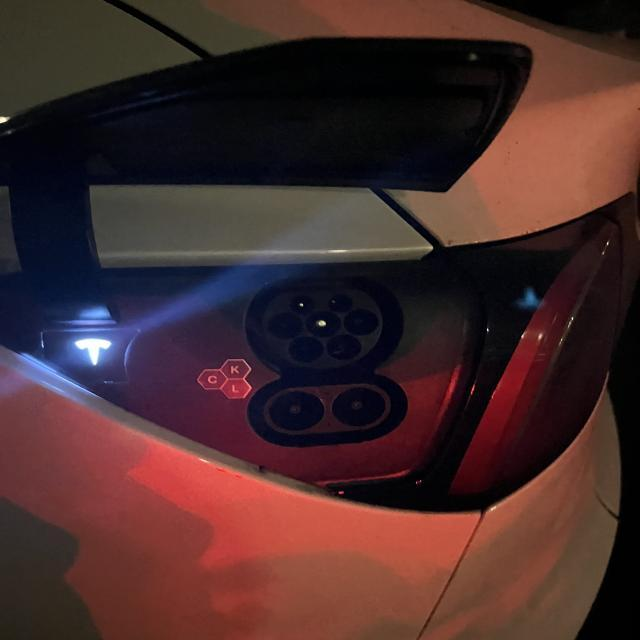inlet: (263, 288, 382, 369)
inlet-above-left: (290, 295, 315, 314)
inlet-above-right: (328, 294, 354, 312)
inlet-below-left: (289, 336, 324, 363)
inlet-below-right: (327, 334, 362, 360)
inlet-center: (305, 311, 342, 337)
inlet-center-left: (269, 312, 303, 339)
inlet-center-right: (343, 309, 379, 335)
